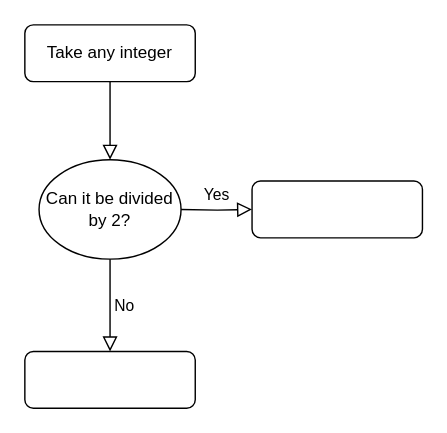
Image size: 447x433. Some labels were removed from this diagram. Each missing label, with the box of its shape:
It is not prime: (23, 350, 195, 408)
It is prime: (251, 180, 422, 238)
